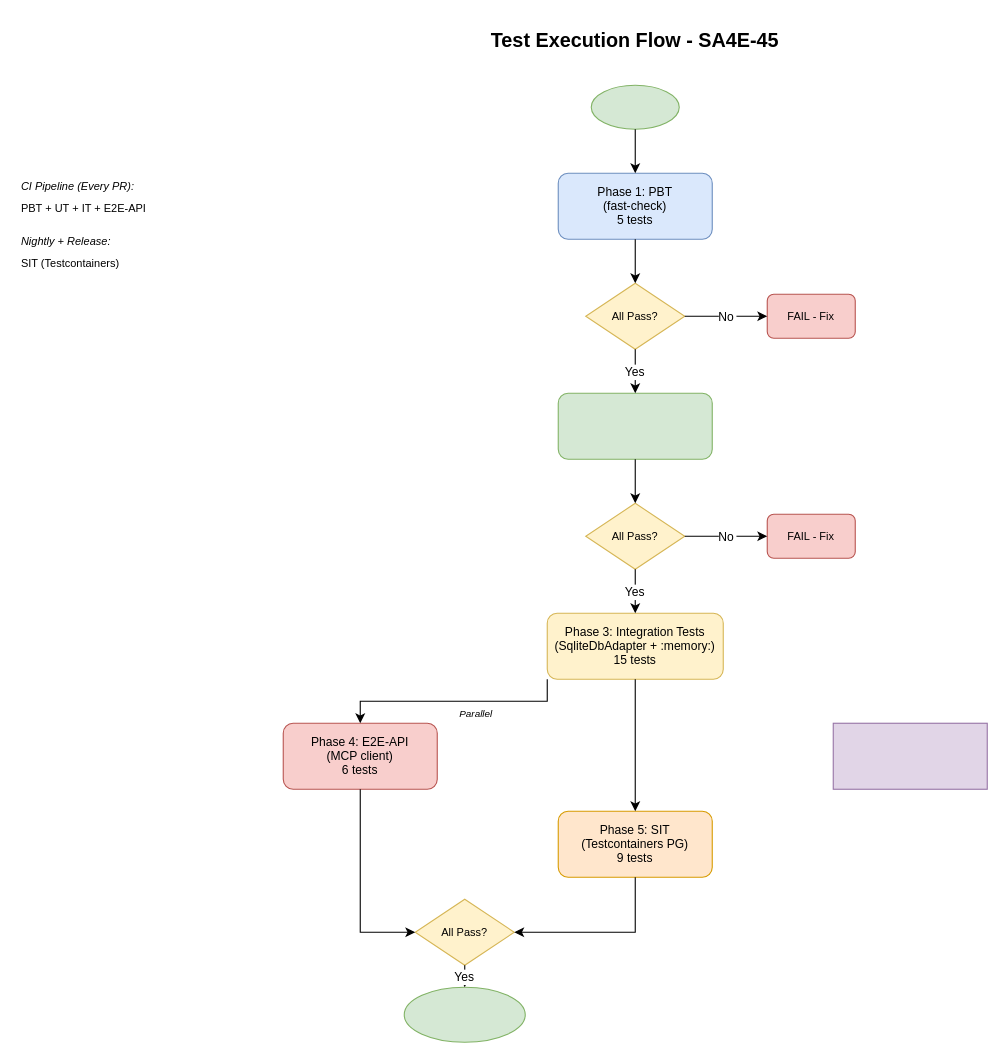
Some shapes in this 1007 by 1062 pixel diagram are drawn without their labels. The shapes that lost their labels are listed below. From the top down, each one's centre as x and y in pixels, then its label:
At point (634, 106): "Start".
At point (634, 425): "Phase 2: Unit Tests (vitest + mock) 35 tests".
At point (909, 755): "Regression Gate: grep 'better-sqlite3' returns 0 matches".
At point (464, 1014): "DONE 70/70 Pass".
